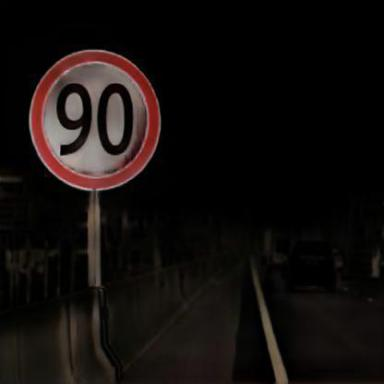Speed_limit_90: (32, 52, 162, 188)
